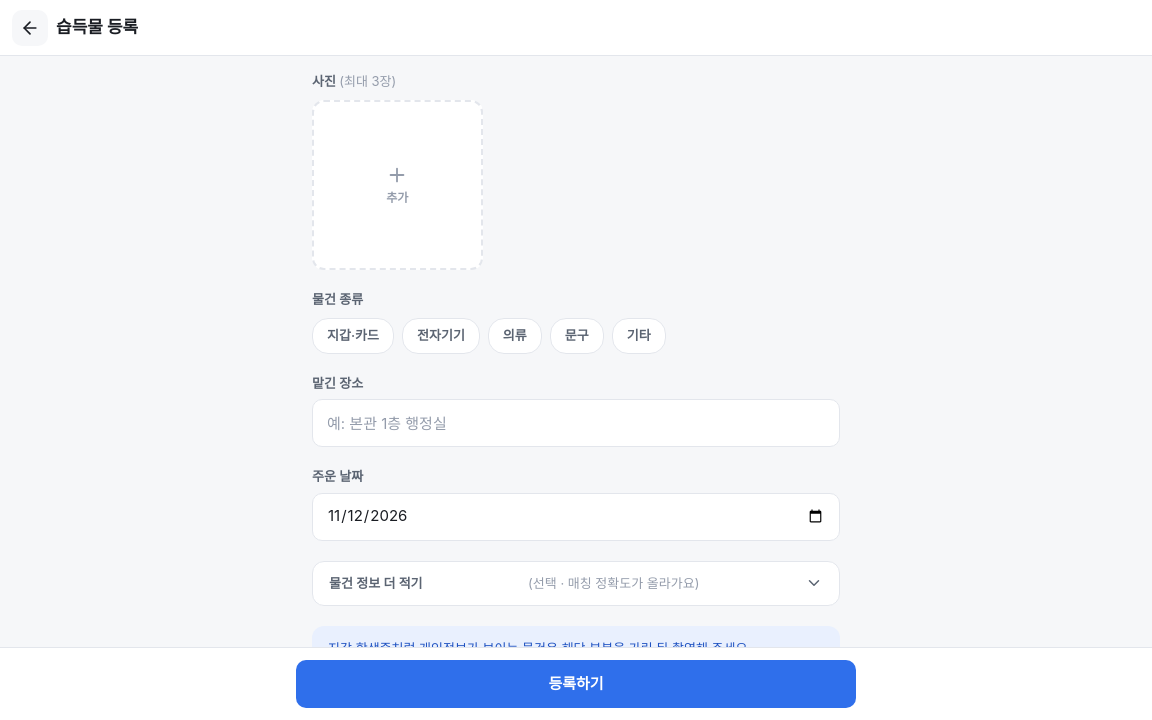
Test case: FoundNewPage › 서버 오류는 문구로
This screenshot has width=1152, height=720.
Click the radio button labelled "문구": click(577, 336) [550,318,604,354]
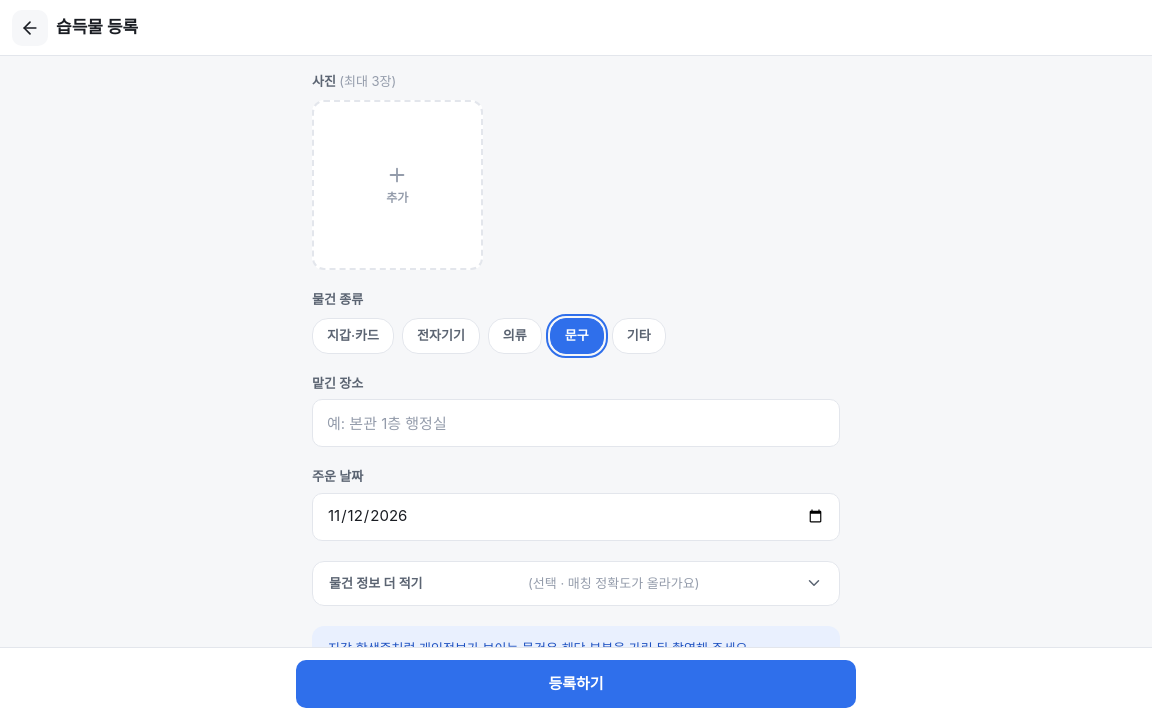
In the field labelled "맡긴 장소": (576, 423) [312,399,840,447], type "행정실"
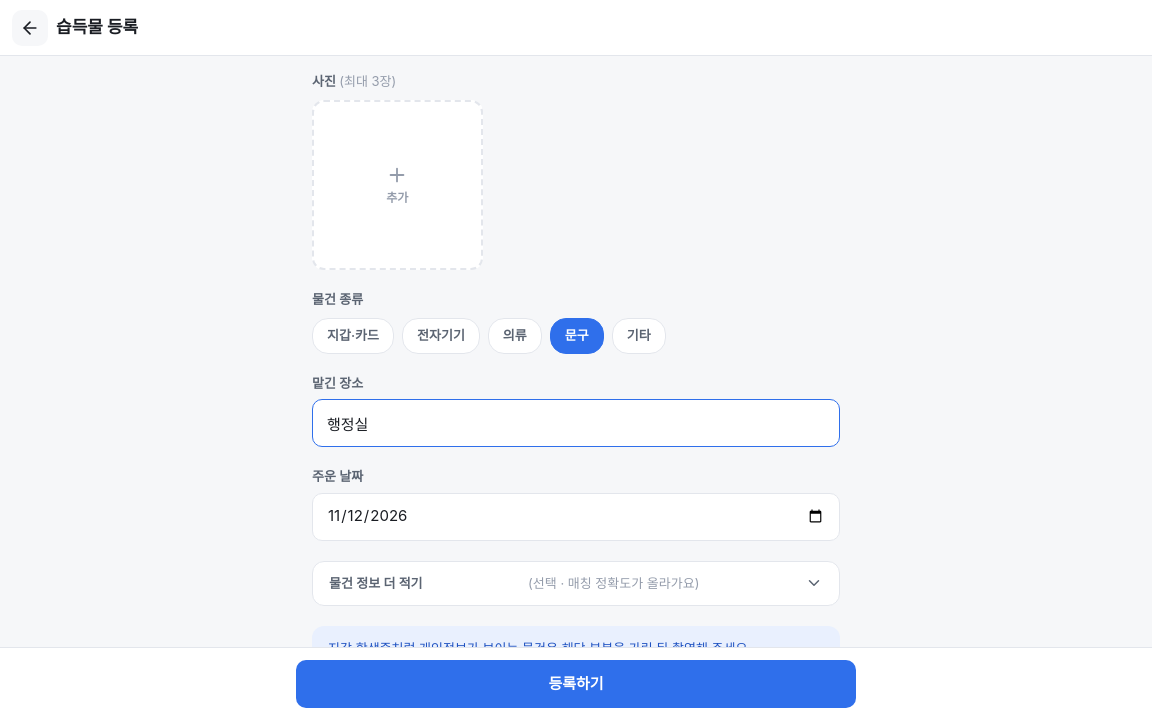
Click the button "등록하기": click(576, 684) [296,660,856,708]
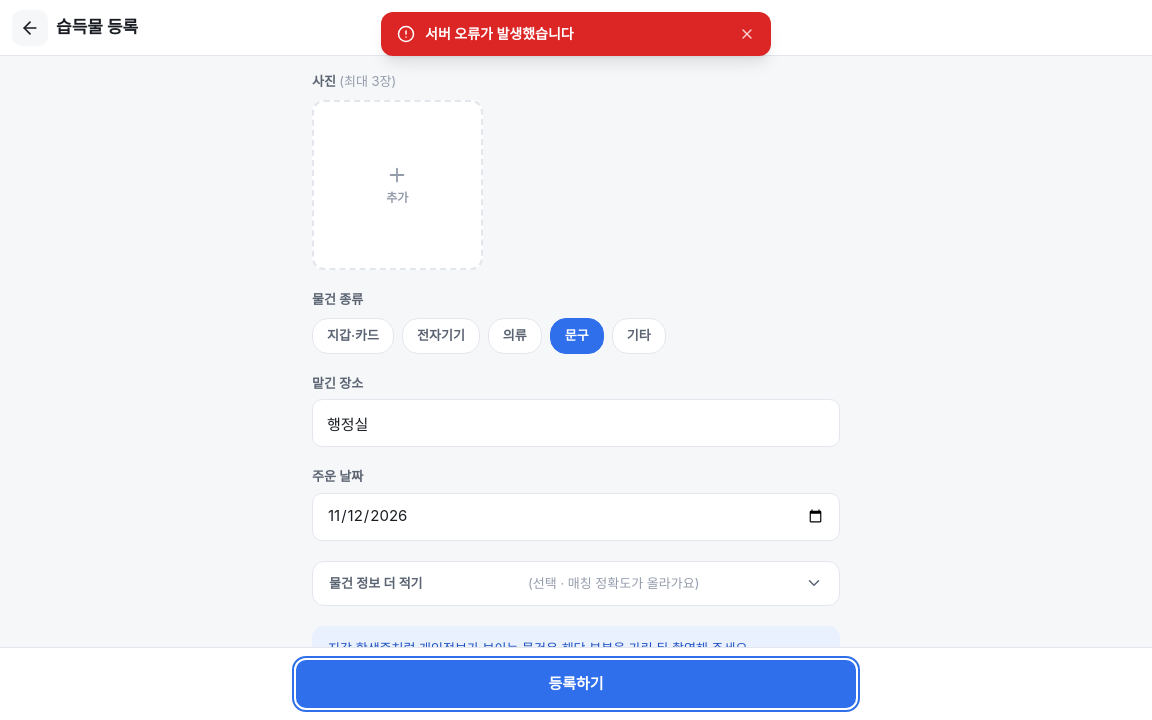
Now the message reads "서버 오류가 발생했습니다", box [425,25,574,42]
